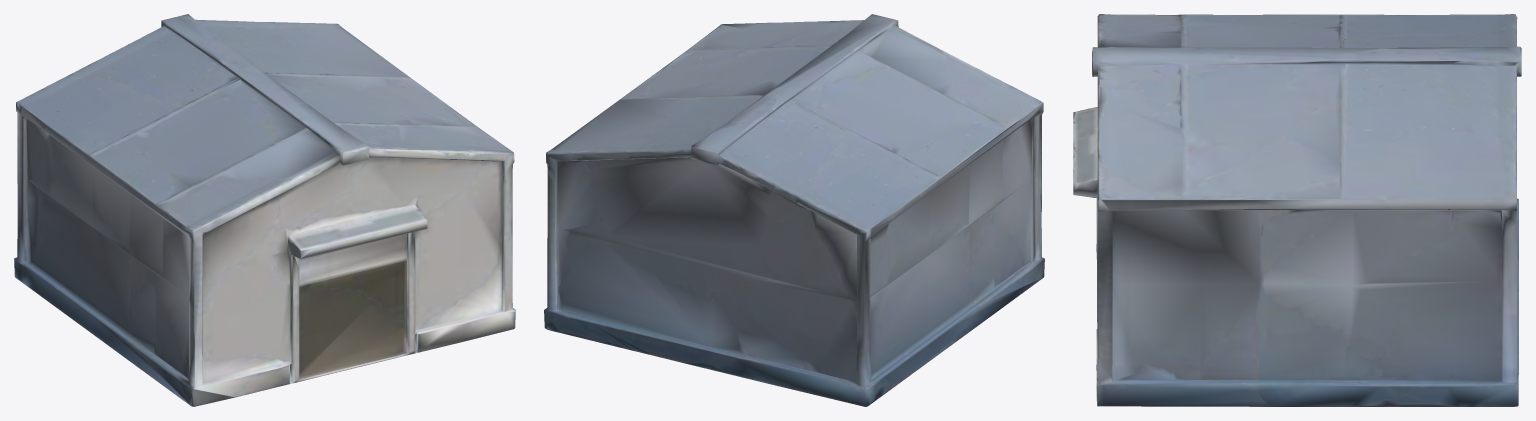
The model's file is raw-material.glb.
3 views of the same model, side by side, from view 1: azimuth 30°, elevation 25°; view 2: azimuth 150°, elevation 25°; view 3: azimuth 270°, elevation 25° (orthographic). The views are drawn at different scales.
Parts seen in each view (by area): view 1: node_0; view 2: node_0; view 3: node_0.
Part boxes in pixels (left/top/right/bottom): node_0: left=14, top=14, right=515, bottom=406; node_0: left=544, top=14, right=1044, bottom=406; node_0: left=1073, top=14, right=1521, bottom=406.
Size of the model in its own units: 0.7748 by 0.5047 by 0.7863.
Materials: 1 (1 with a texture image).
